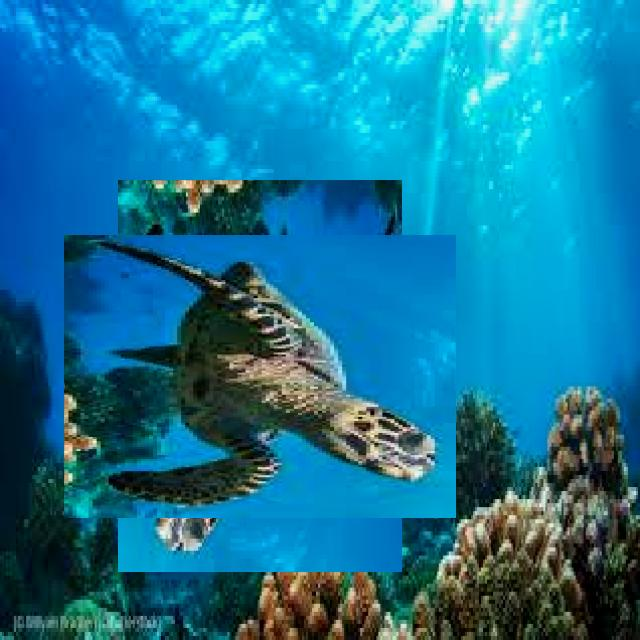Sea turtle: (91, 207, 429, 545)
